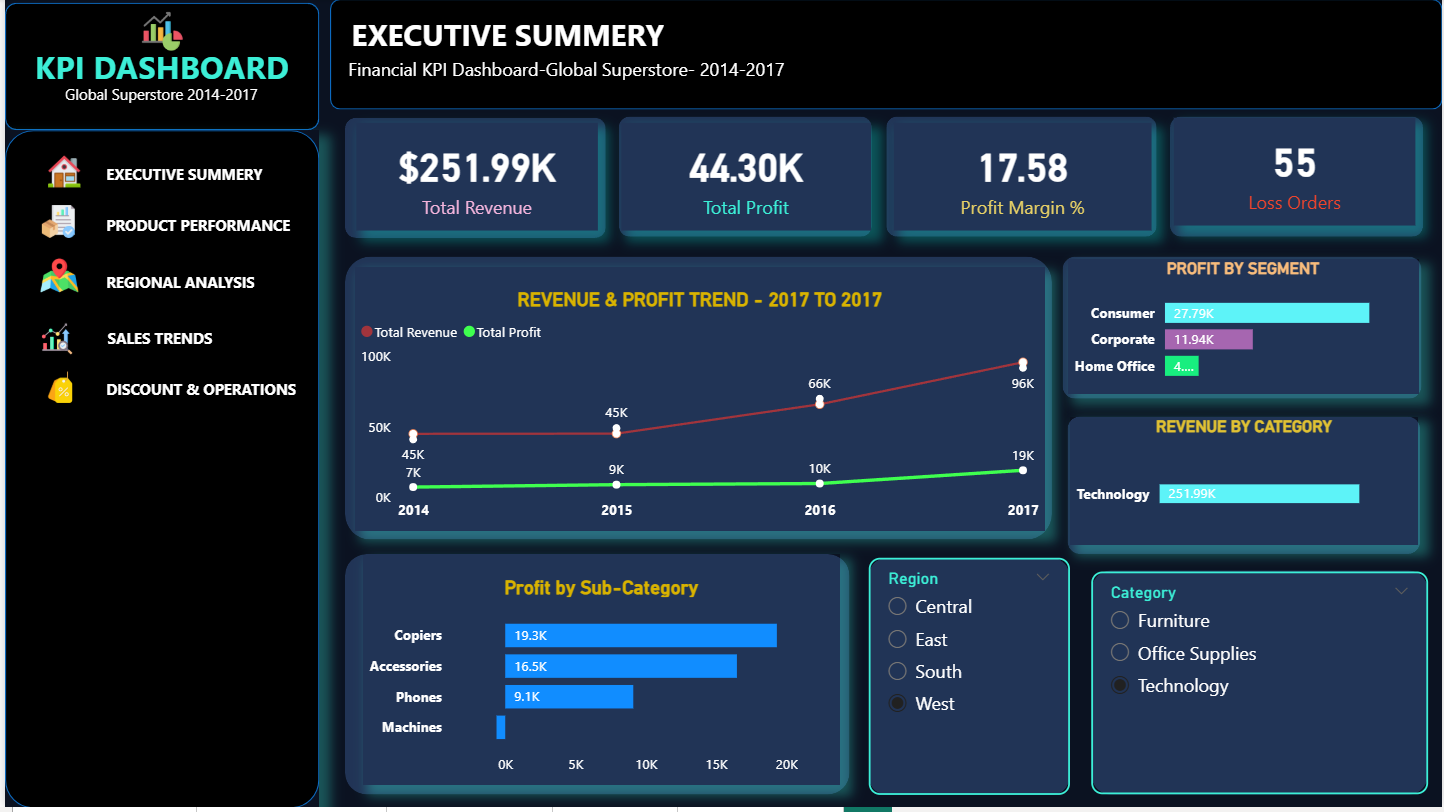

What the dashboard file says about the page in this screenshot:
{"tool":"powerbi","page":{"name":"Executive Summary","canvas":[1280,720],"ordinal":0},"visuals":[{"type":"shape","box":[0,3.6,279.9,113.4],"z":0},{"type":"shape","box":[289.1,0,990.6,98.4],"z":1000},{"type":"shape","box":[0,116.6,279.9,603.8],"z":2000},{"type":"shape","box":[302.8,105.6,232.4,107],"z":3000},{"type":"shape","box":[1038,104.2,225.4,107],"z":4000},{"type":"shape","box":[302.8,229.6,629.6,252.1],"z":5000},{"type":"shape","box":[942.3,229.6,319.7,126.8],"z":6000},{"type":"shape","box":[946.5,371.8,314.1,122.5],"z":7000},{"type":"card","fields":{"Values":["superstore_clean.Total Revenue"]},"box":[312.7,109.9,215.5,95.8],"z":8000},{"type":"lineChart","title":"REVENUE & PROFIT TREND - 2017 TO 2017","fields":{"Y":["superstore_clean.Total Revenue","superstore_clean.Total Profit"],"Category":["superstore_clean.Order_Year"]},"box":[311.3,238,614.1,235.2],"z":9000},{"type":"clusteredBarChart","title":" REVENUE BY CATEGORY","fields":{"Category":["superstore_clean.Category"],"Y":["superstore_clean.Total Revenue"]},"box":[947.9,371.8,309.9,114.1],"z":10000},{"type":"clusteredBarChart","title":"PROFIT BY SEGMENT","fields":{"Y":["superstore_clean.Total Profit"],"Category":["superstore_clean.Segment"]},"box":[946.5,231,312.7,119.7],"z":11000},{"type":"shape","box":[784.5,104.2,240.8,107],"z":12000},{"type":"shape","box":[546.5,104.2,225.4,107],"z":13000},{"type":"card","fields":{"Values":["superstore_clean.Total Profit"]},"box":[549.3,109.9,222.5,95.8],"z":14000},{"type":"card","fields":{"Values":["superstore_clean.Profit Margin %"]},"box":[791.5,109.9,229.6,95.8],"z":15000},{"type":"card","fields":{"Values":["superstore_clean.Loss Orders"]},"box":[1040.8,105.6,215.5,95.8],"z":16000},{"type":"shape","box":[90.5,133.9,199.1,43.4],"z":17000},{"type":"shape","box":[90.5,230.4,199.1,43.4],"z":18000},{"type":"shape","box":[90.5,179.8,199.1,43.4],"z":19000},{"type":"shape","box":[91.7,279.9,199.1,44.6],"z":20000},{"type":"shape","box":[90.5,324.5,199.1,43.4],"z":21000},{"type":"shape","box":[43.4,68.8,191.8,30.2],"z":22000},{"type":"shape","box":[967.6,508.5,300,200],"z":23000},{"type":"shape","box":[302.8,494.4,449.3,214.1],"z":24000},{"type":"clusteredBarChart","title":" Profit by Sub-Category","fields":{"Category":["superstore_clean.Sub-Category"],"Y":["superstore_clean.Total Profit"]},"box":[318.3,494.4,425.4,205.6],"z":25000},{"type":"shape","box":[769,497.2,178.9,211.3],"z":26000},{"type":"slicer","fields":{"Values":["superstore_clean.Region"]},"box":[769,497.2,178.9,211.3],"z":27000},{"type":"slicer","fields":{"Values":["superstore_clean.Category"]},"box":[967.6,509.9,300,198.6],"z":28000},{"type":"shape","box":[308.2,0,375.4,60.7],"z":29000},{"type":"shape","box":[303.3,47.5,678.7,39.3],"z":30000},{"type":"image","box":[30.2,229.2,37.4,33.8],"z":31000},{"type":"image","box":[118.2,9.7,43.4,37.4],"z":32000},{"type":"image","box":[27.7,182.2,39.8,31.4],"z":33000},{"type":"image","box":[25.3,288.3,42.2,29],"z":34000},{"type":"image","box":[31.4,331.8,36.2,27.7],"z":35000},{"type":"image","box":[31.4,138.7,43.4,29],"z":36000}]}

Visuals, with their boxes in screenshot pixels (x1, y1, x2, y2), scaled from the page's 1280x720 canvas onto the 1444x812 screenshot:
shape: (left=0, top=4, right=316, bottom=132)
shape: (left=326, top=0, right=1443, bottom=111)
shape: (left=0, top=131, right=316, bottom=811)
shape: (left=342, top=119, right=604, bottom=240)
shape: (left=1171, top=118, right=1425, bottom=238)
shape: (left=342, top=259, right=1052, bottom=543)
shape: (left=1063, top=259, right=1424, bottom=402)
shape: (left=1068, top=419, right=1422, bottom=557)
card - superstore_clean.Total Revenue: (left=353, top=124, right=596, bottom=232)
"REVENUE & PROFIT TREND - 2017 TO 2017" lineChart: (left=351, top=268, right=1044, bottom=534)
" REVENUE BY CATEGORY" clusteredBarChart: (left=1069, top=419, right=1419, bottom=548)
"PROFIT BY SEGMENT" clusteredBarChart: (left=1068, top=261, right=1421, bottom=396)
shape: (left=885, top=118, right=1157, bottom=238)
shape: (left=617, top=118, right=871, bottom=238)
card - superstore_clean.Total Profit: (left=620, top=124, right=871, bottom=232)
card - superstore_clean.Profit Margin %: (left=893, top=124, right=1152, bottom=232)
card - superstore_clean.Loss Orders: (left=1174, top=119, right=1417, bottom=227)
shape: (left=102, top=151, right=327, bottom=200)
shape: (left=102, top=260, right=327, bottom=309)
shape: (left=102, top=203, right=327, bottom=252)
shape: (left=103, top=316, right=328, bottom=366)
shape: (left=102, top=366, right=327, bottom=415)
shape: (left=49, top=78, right=265, bottom=112)
shape: (left=1092, top=573, right=1430, bottom=799)
shape: (left=342, top=558, right=848, bottom=799)
" Profit by Sub-Category" clusteredBarChart: (left=359, top=558, right=839, bottom=789)
shape: (left=868, top=561, right=1069, bottom=799)
slicer - superstore_clean.Region: (left=868, top=561, right=1069, bottom=799)
slicer - superstore_clean.Category: (left=1092, top=575, right=1430, bottom=799)
shape: (left=348, top=0, right=771, bottom=68)
shape: (left=342, top=54, right=1108, bottom=98)
image: (left=34, top=258, right=76, bottom=297)
image: (left=133, top=11, right=182, bottom=53)
image: (left=31, top=205, right=76, bottom=241)
image: (left=29, top=325, right=76, bottom=358)
image: (left=35, top=374, right=76, bottom=405)
image: (left=35, top=156, right=84, bottom=189)
